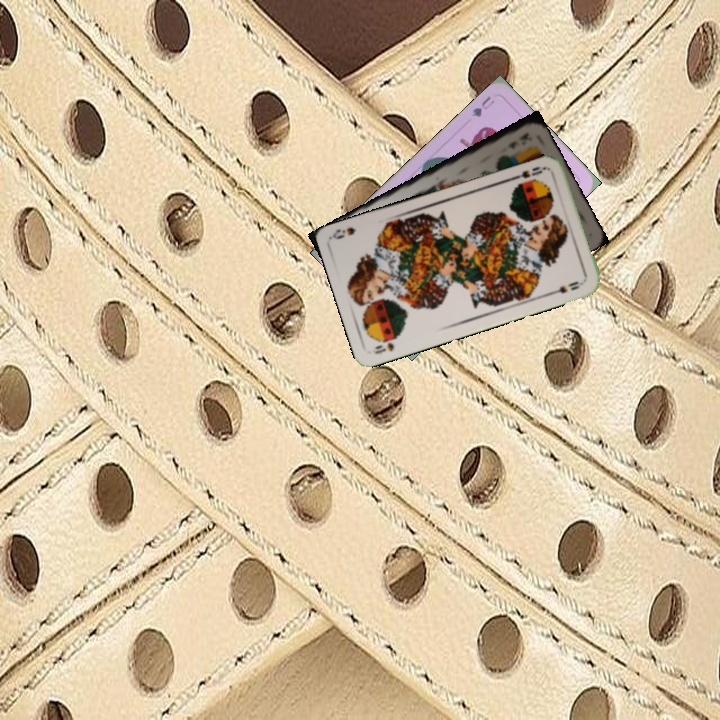EK: (503, 128, 533, 151)
GU: (468, 92, 497, 120)
SO: (510, 162, 549, 182), (371, 338, 396, 357)
